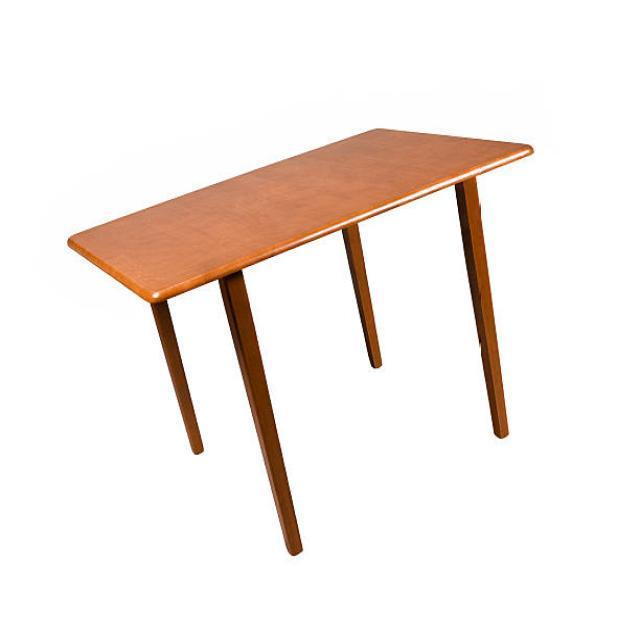table: (66, 125, 534, 556)
